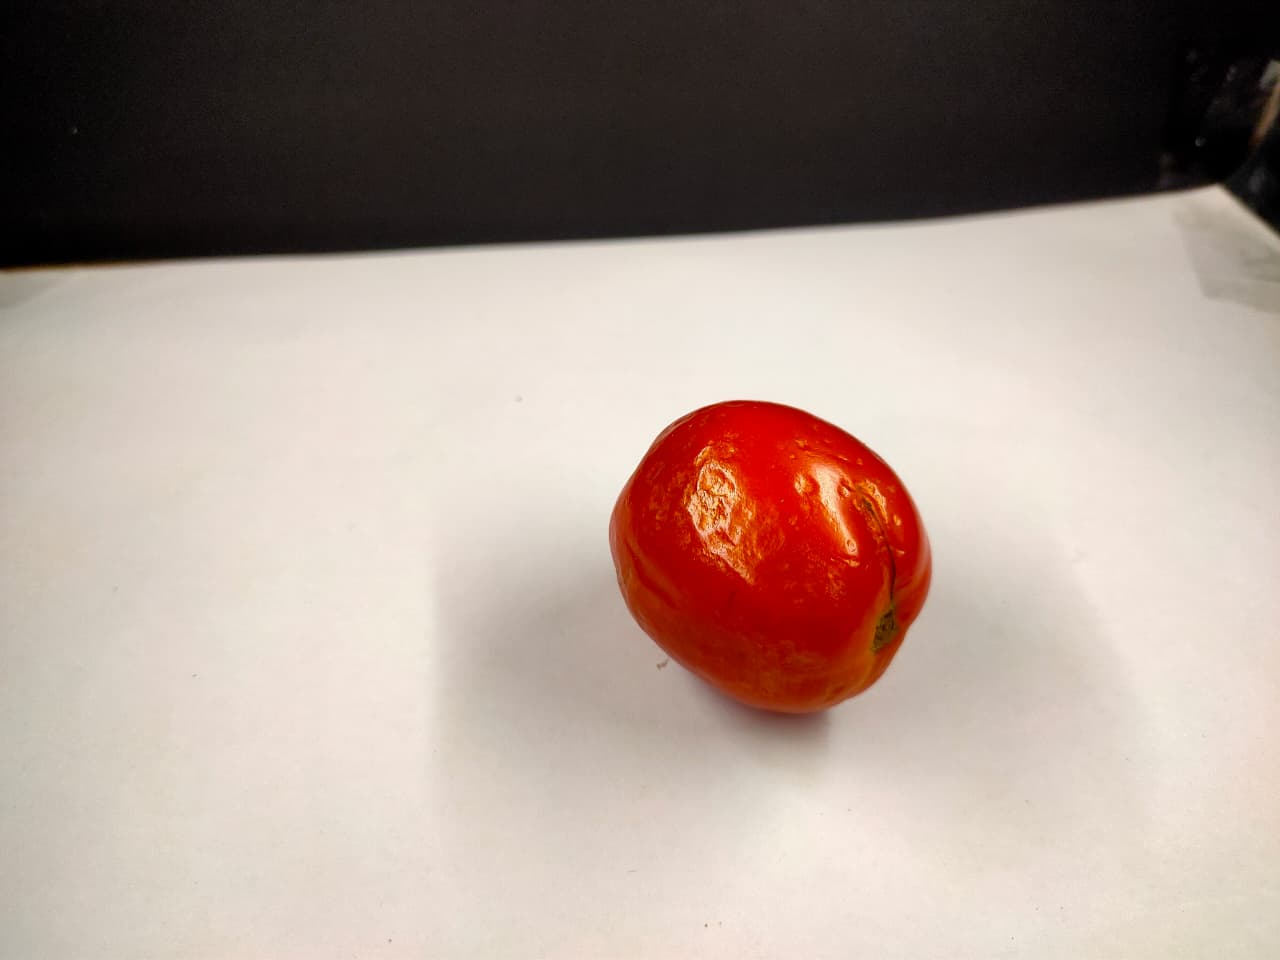damaged: (620, 393, 928, 720)
